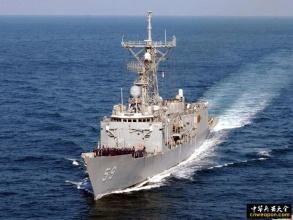warship: (82, 14, 214, 196)
